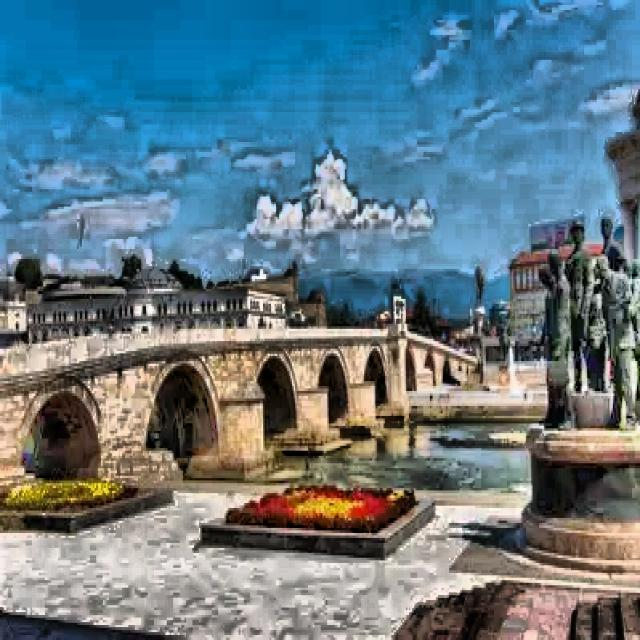Philip II of Macedonia: (469, 267, 492, 362)
stone bridge: (0, 310, 486, 496)
